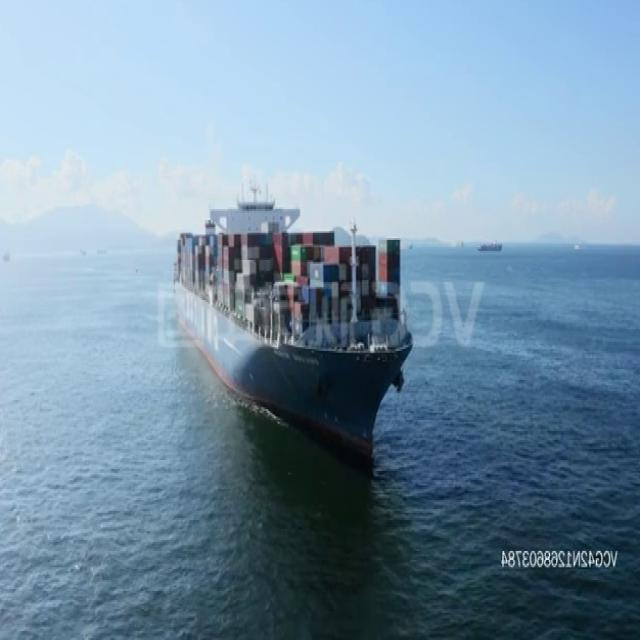cargoship: (172, 173, 414, 458)
